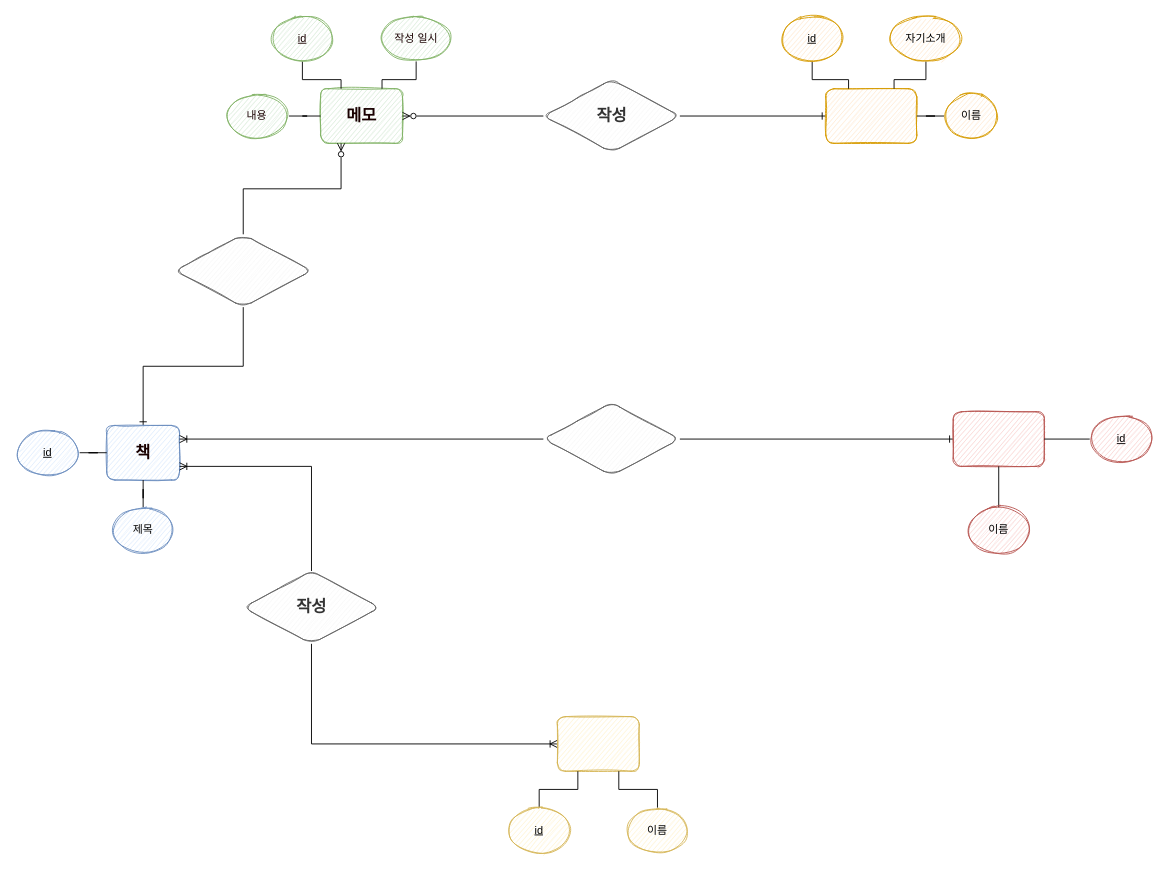
This 1169x869 diagram has some shape labels left out. Each missing label, with the centre of its shape:
"사용자" goes at pixel 871 115.
"저자" goes at pixel 597 743.
"주제" goes at pixel 242 270.
"출판" goes at pixel 611 438.
"출판사" goes at pixel 998 438.
